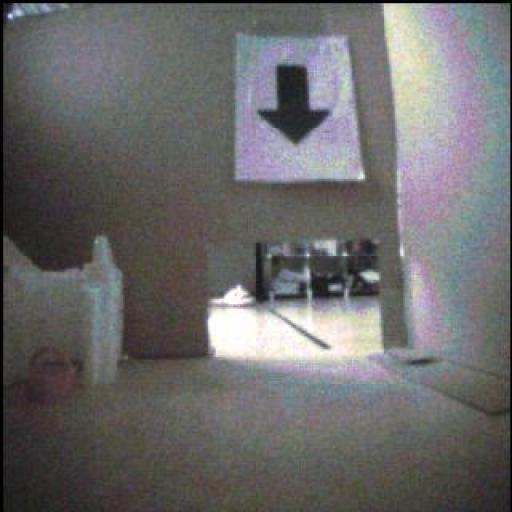arrow: (259, 67, 331, 145)
